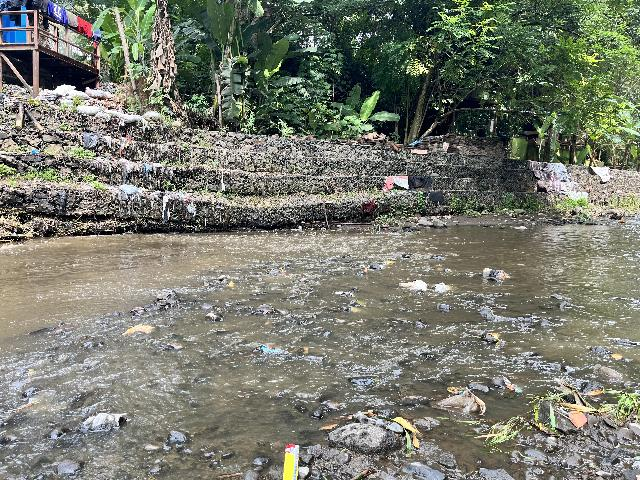Sampah Anorganik: (438, 383, 488, 416), (283, 442, 301, 480), (498, 374, 526, 398), (480, 264, 513, 284), (257, 343, 288, 357), (398, 280, 428, 292), (331, 292, 357, 299), (435, 281, 449, 293), (382, 260, 397, 266)
Sampah Organik: (533, 387, 596, 458), (378, 412, 426, 453), (602, 385, 640, 426), (477, 422, 521, 448), (121, 324, 155, 336), (6, 400, 42, 411), (291, 345, 310, 355), (318, 423, 340, 430), (128, 306, 144, 312), (26, 368, 36, 377), (227, 279, 236, 288), (278, 266, 287, 274), (364, 268, 368, 273)
